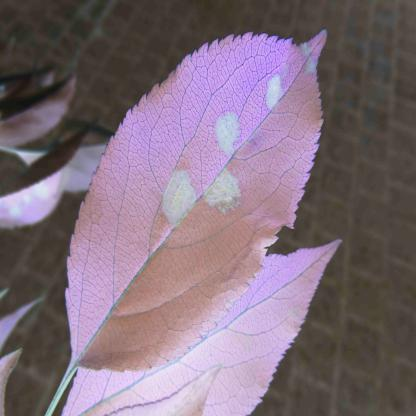apple scab leaf: (64, 19, 327, 376)
